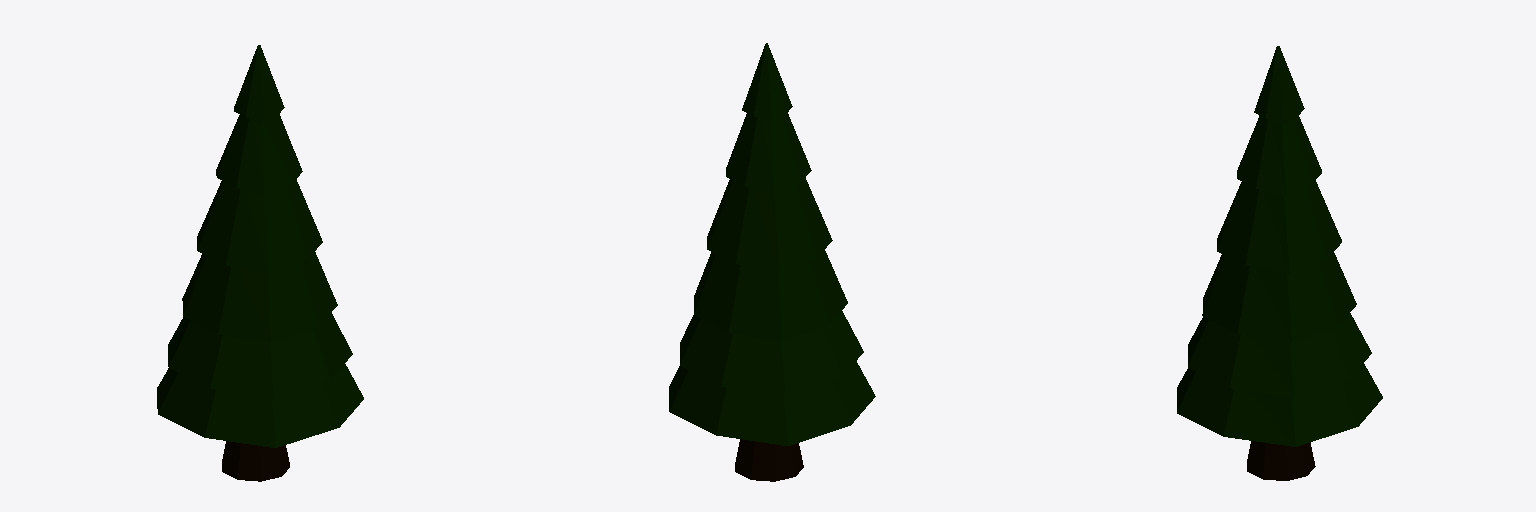
Rendered from tree-1.obj.
3 views of the same model, side by side, from view 1: azimuth 30°, elevation 25°; view 2: azimuth 150°, elevation 25°; view 3: azimuth 270°, elevation 25° (orthographic).
Visible parts, largest first — view 1: Cylinder; view 2: Cylinder; view 3: Cylinder.
Part boxes in pixels (x1,y1,x2,y2): Cylinder: (157, 45, 363, 481); Cylinder: (669, 43, 875, 481); Cylinder: (1177, 46, 1382, 480).
Bounding box in the file's own units: 2.31 × 5.12 × 2.28.